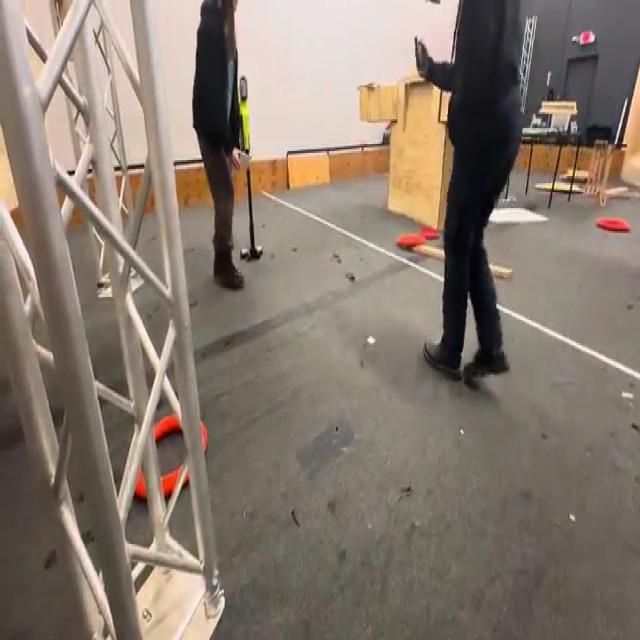note: (133, 409, 211, 498), (595, 214, 631, 234), (396, 230, 426, 251)
